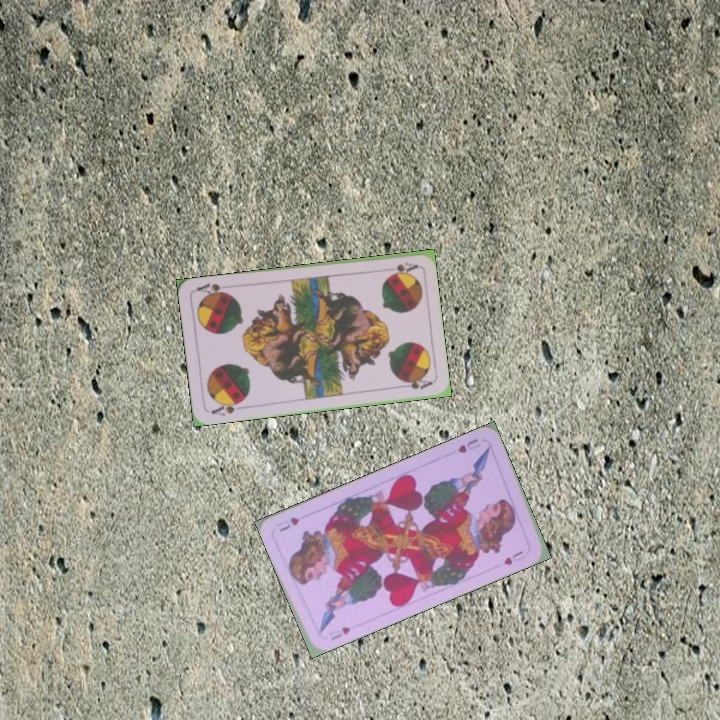HU: (454, 434, 483, 456), (327, 622, 353, 643)
SA: (207, 396, 247, 419), (387, 258, 420, 277)
